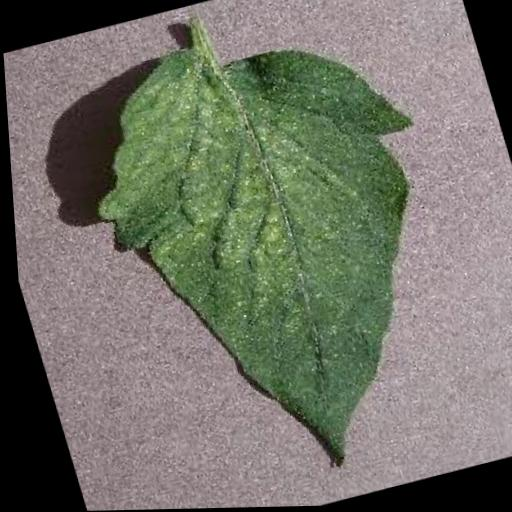Spider Mites: (56, 3, 502, 511)
